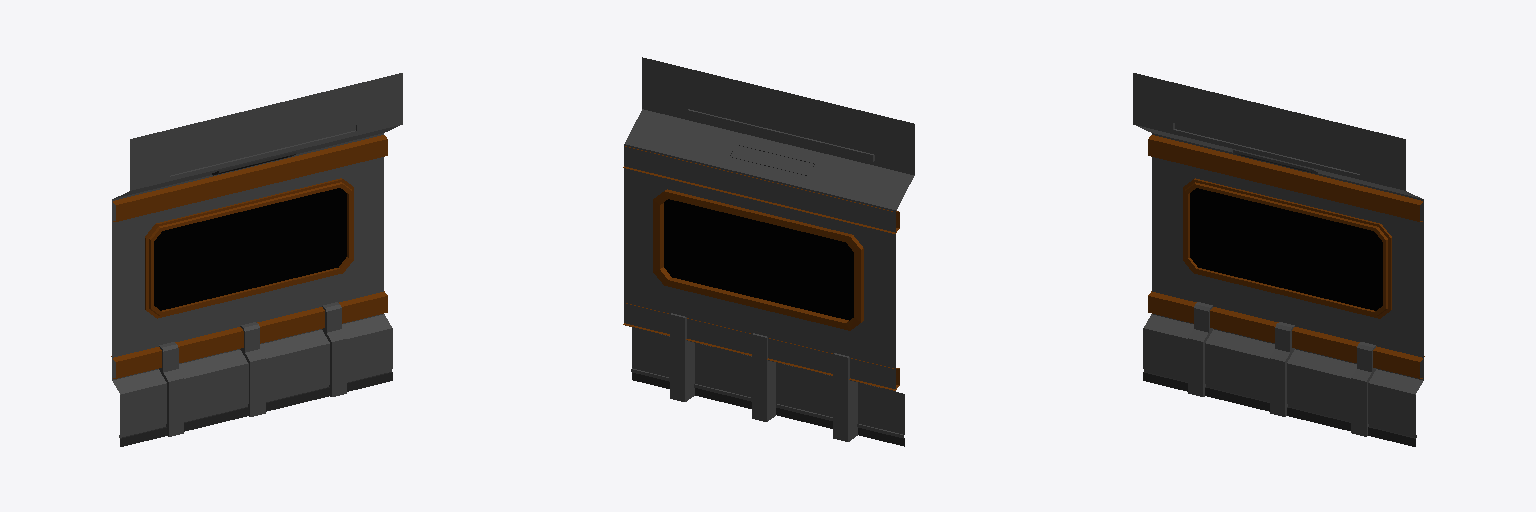
The model's file is Window_Wall_SideB.obj.
3 renders of one model, left to right at view 1: azimuth 30°, elevation 25°; view 2: azimuth 150°, elevation 25°; view 3: azimuth 330°, elevation 25°, orthographic.
Visible parts, largest first — view 1: Window_Wall_SideB_Plane.013; view 2: Window_Wall_SideB_Plane.013; view 3: Window_Wall_SideB_Plane.013.
Part boxes in pixels (x1,y1,x2,y2): Window_Wall_SideB_Plane.013: (111,73,402,446); Window_Wall_SideB_Plane.013: (623,57,914,446); Window_Wall_SideB_Plane.013: (1133,73,1424,446).
Bounding box in the file's own units: 4 × 4.43 × 0.5355.